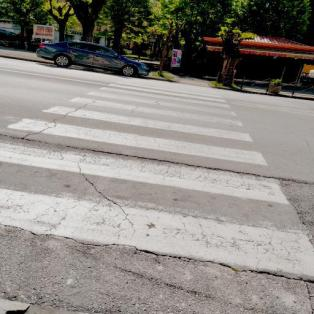Paso de Cebra: (0, 104, 269, 169)
